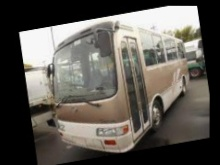bus: (41, 9, 199, 164), (183, 39, 207, 79)
